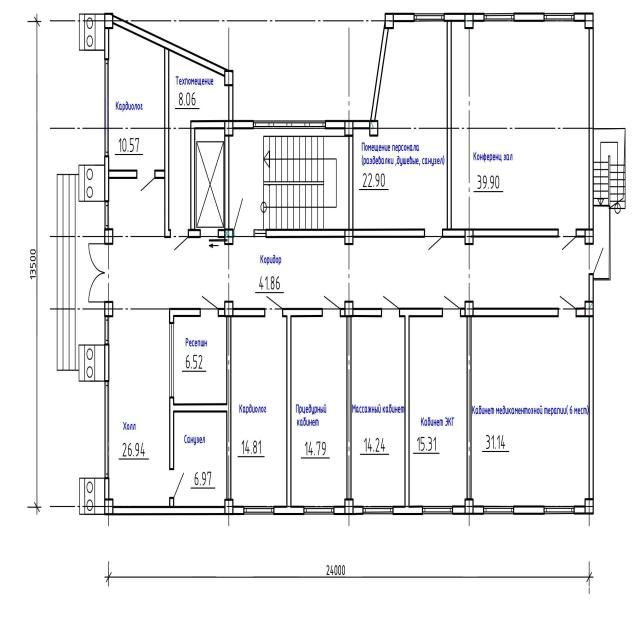Bathrooms: (174, 413, 226, 504)
Corridors: (109, 179, 589, 506), (169, 52, 228, 229)
Doors: (88, 242, 113, 304), (233, 196, 254, 238), (589, 245, 605, 274), (201, 230, 225, 249), (169, 469, 185, 497), (425, 228, 442, 253), (559, 228, 576, 252), (559, 294, 576, 318), (171, 230, 188, 254), (201, 294, 218, 318), (265, 294, 282, 318), (382, 294, 399, 317), (323, 294, 340, 317), (444, 294, 460, 318), (138, 169, 154, 193)
LBwalls: (113, 14, 228, 77), (113, 497, 244, 516), (370, 21, 389, 120), (589, 273, 594, 498), (589, 30, 594, 228), (325, 119, 369, 129), (445, 12, 484, 21), (274, 505, 305, 516), (393, 505, 423, 516), (452, 505, 484, 515), (334, 505, 363, 515), (514, 13, 544, 22), (514, 505, 544, 514), (104, 156, 110, 200), (104, 478, 110, 515), (394, 12, 414, 22), (104, 343, 109, 380), (104, 498, 114, 516), (234, 120, 254, 129), (228, 85, 233, 120), (344, 120, 354, 137), (104, 28, 109, 59), (224, 228, 233, 245), (344, 228, 353, 245), (345, 300, 354, 317), (585, 228, 594, 245), (585, 498, 594, 515), (585, 12, 594, 29), (385, 12, 394, 29), (369, 120, 378, 137), (224, 120, 233, 137), (104, 301, 113, 317), (104, 228, 113, 244), (224, 301, 233, 317), (345, 498, 354, 514), (465, 229, 474, 245), (585, 301, 594, 317), (224, 70, 233, 86), (104, 13, 113, 29), (465, 300, 473, 317), (225, 499, 233, 515), (465, 499, 473, 515), (465, 13, 473, 29), (574, 505, 585, 514), (574, 13, 585, 22), (576, 307, 585, 317), (576, 228, 585, 238)
Offices: (452, 22, 589, 227), (472, 317, 588, 505), (354, 22, 447, 229), (410, 319, 466, 505), (292, 318, 346, 506), (232, 319, 286, 505), (352, 318, 404, 504), (109, 24, 164, 170), (175, 318, 226, 402)
Stairs: (230, 129, 349, 228), (594, 128, 625, 277), (56, 173, 76, 370)
Walls: (218, 307, 266, 499), (399, 307, 443, 507), (340, 307, 383, 498), (282, 307, 323, 505), (187, 119, 229, 239), (168, 396, 226, 471), (154, 48, 171, 238), (267, 229, 425, 238), (466, 318, 472, 498), (442, 228, 559, 237), (447, 21, 452, 228), (460, 307, 559, 317), (169, 306, 201, 324), (349, 135, 353, 232), (109, 170, 137, 179)
Windows: (254, 120, 325, 129), (104, 59, 109, 157), (105, 382, 109, 478), (169, 323, 174, 398), (423, 505, 453, 514), (244, 506, 274, 515), (305, 506, 334, 515), (544, 13, 573, 22), (544, 506, 574, 514), (484, 506, 514, 514), (414, 13, 444, 21), (484, 13, 514, 21), (364, 506, 393, 514), (104, 316, 109, 343), (104, 201, 109, 228), (254, 229, 266, 238)
